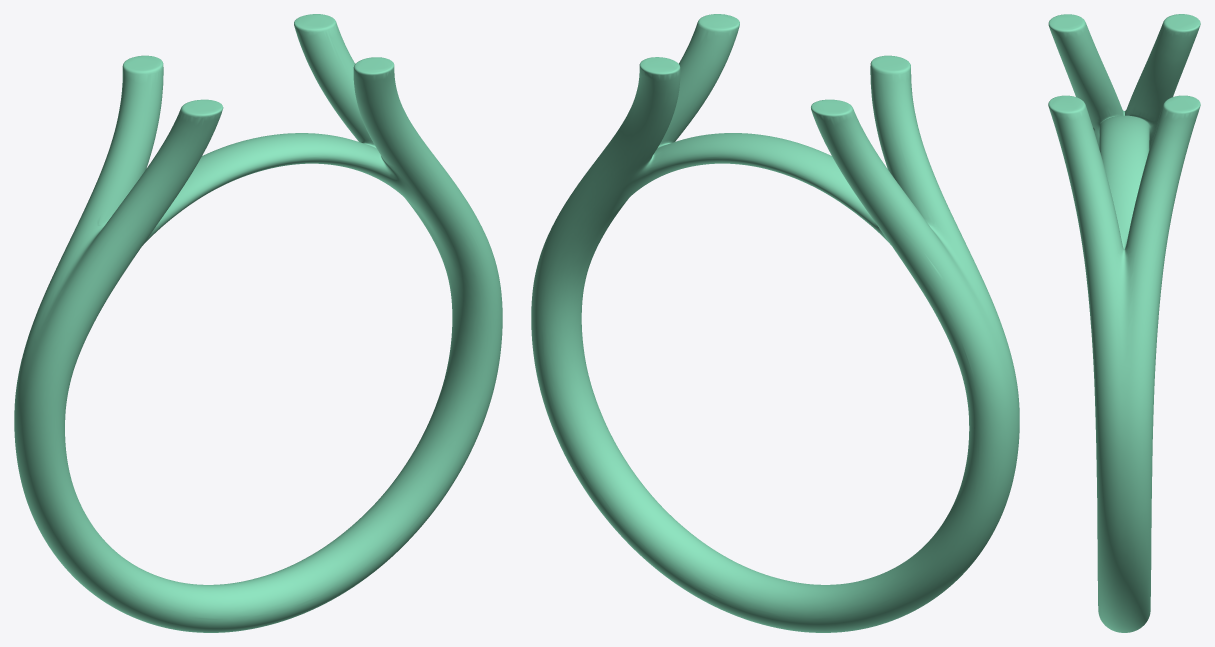
3 views of the same model, side by side, from view 1: azimuth 30°, elevation 25°; view 2: azimuth 150°, elevation 25°; view 3: azimuth 270°, elevation 25° (orthographic). The views are drawn at different scales.
Parts seen in each view (by area): view 1: Metal02; view 2: Metal02; view 3: Metal02.
Boxes of the visible parts, left/top/right/bottom form: Metal02: left=14, top=14, right=502, bottom=632; Metal02: left=531, top=14, right=1019, bottom=632; Metal02: left=1048, top=14, right=1200, bottom=632.
Bounding box in the file's own units: 20.89 × 23.35 × 5.91.
